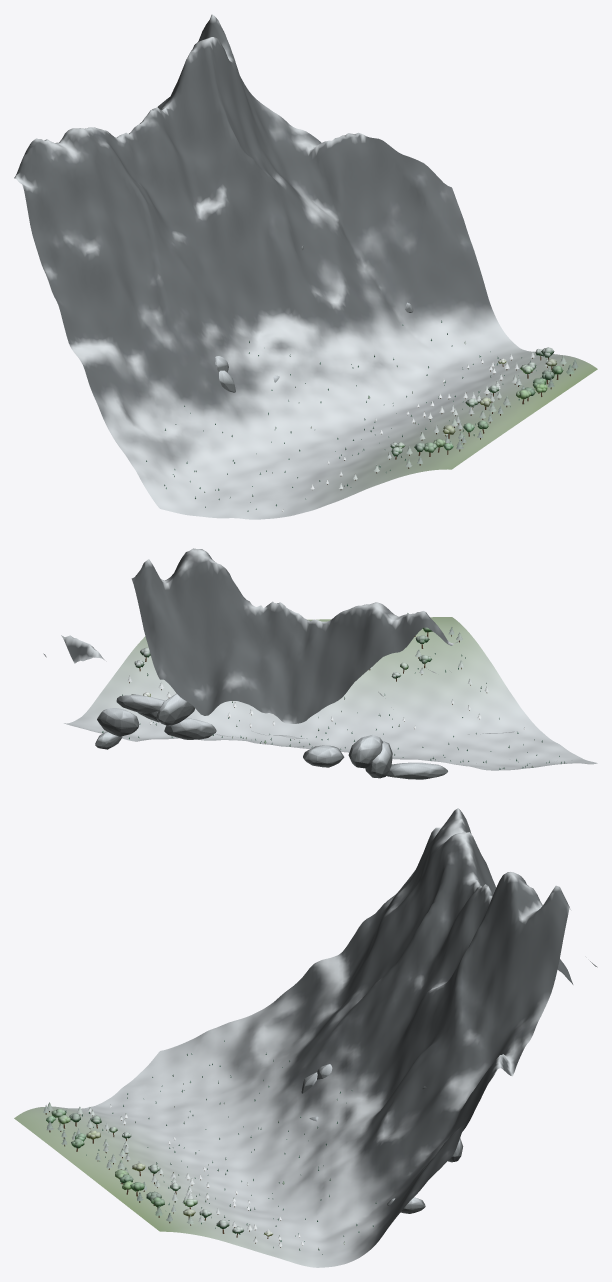
The picture shows the model from 3 angles, top to bottom: view 1: azimuth 30°, elevation 25°; view 2: azimuth 150°, elevation 25°; view 3: azimuth 270°, elevation 25°; orthographic projection.
Parts seen in each view (by area): view 1: terrain_v10, ecotone_broadleaf_canopy, ecotone_conifer_canopy; view 2: terrain_v10, supported_bedrock, ecotone_broadleaf_canopy, ecotone_conifer_canopy; view 3: terrain_v10, ecotone_broadleaf_canopy, ecotone_conifer_canopy, supported_bedrock.
Boxes of the visible parts, box(x1,y1,x2,y2) form: terrain_v10: box(14, 14, 597, 519); ecotone_broadleaf_canopy: box(390, 347, 563, 455); ecotone_conifer_canopy: box(282, 341, 578, 511); terrain_v10: box(43, 548, 597, 770); supported_bedrock: box(95, 693, 447, 779); ecotone_broadleaf_canopy: box(134, 627, 432, 696); ecotone_conifer_canopy: box(128, 613, 525, 743); terrain_v10: box(14, 808, 597, 1267); ecotone_broadleaf_canopy: box(46, 1109, 272, 1236); ecotone_conifer_canopy: box(43, 1102, 345, 1246); supported_bedrock: box(301, 1064, 463, 1213).
Size of the model in its own units: 4330 by 2821 by 5000.
Materials: 7 (2 with a texture image).
